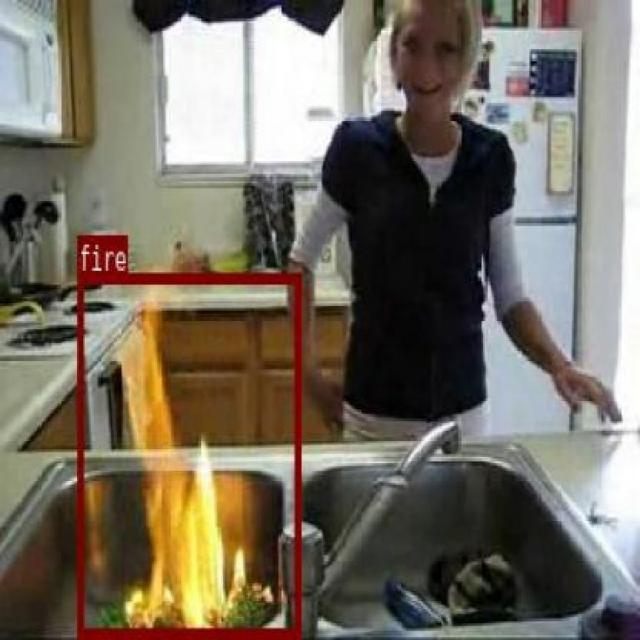Fire: (87, 280, 274, 640)
